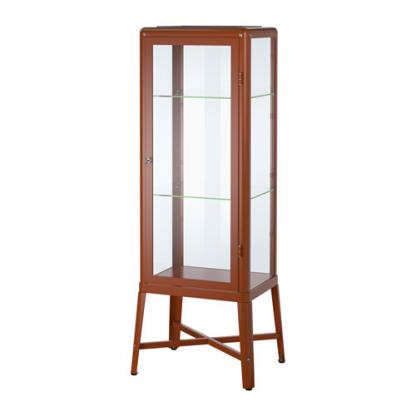Cabinet: (127, 20, 291, 393)
